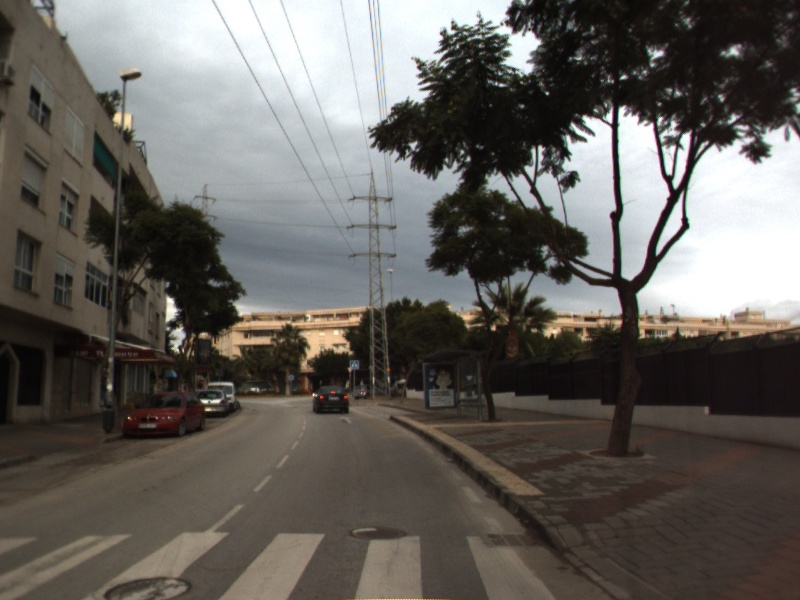STRAIGHT: (336, 414, 355, 425)
